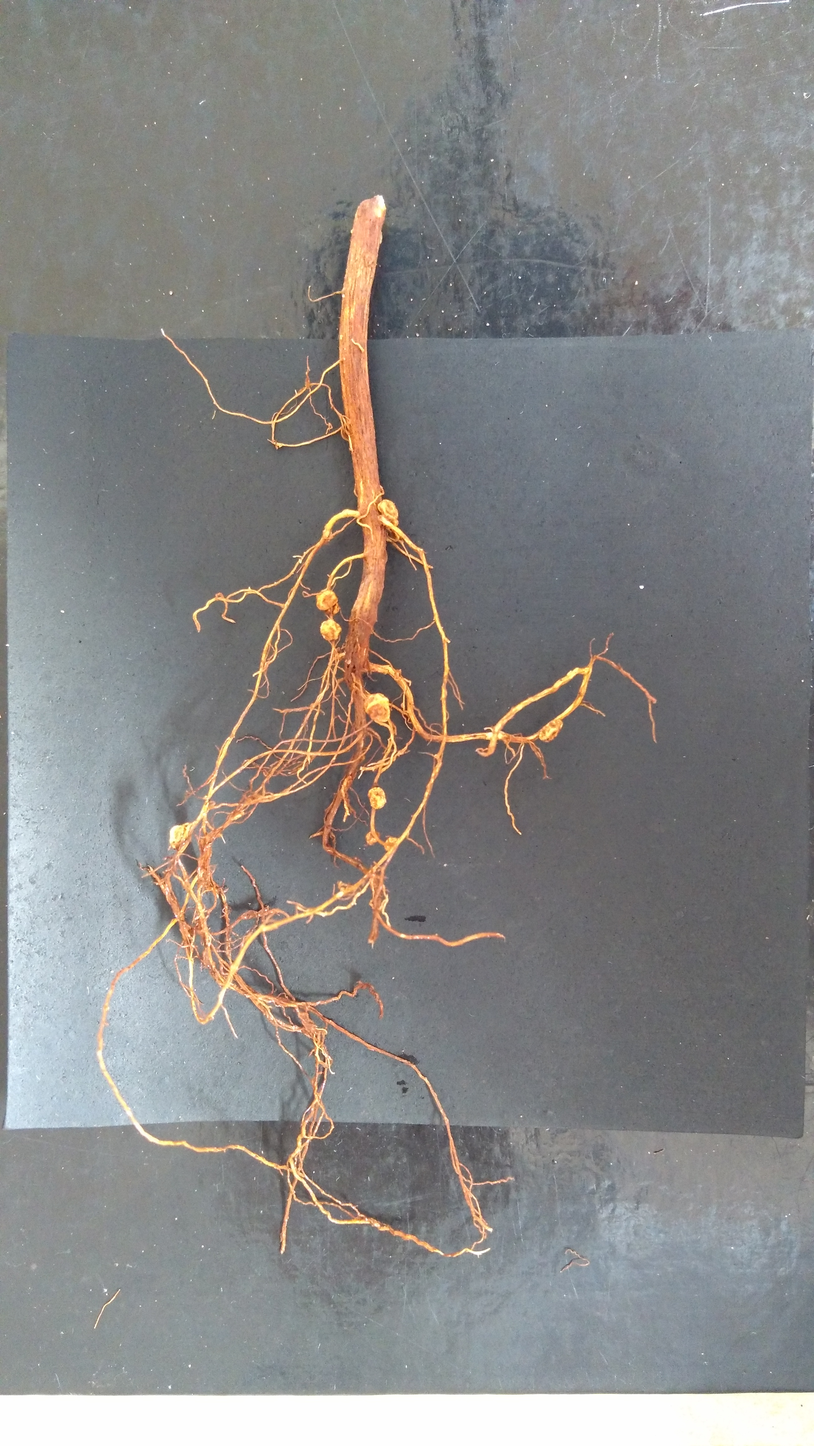nodule: (361, 691, 392, 724), (536, 717, 566, 745), (318, 617, 342, 643), (366, 785, 388, 812), (168, 822, 189, 850), (376, 497, 400, 521), (315, 588, 339, 612), (383, 834, 399, 852), (380, 512, 399, 526), (365, 829, 380, 846), (332, 601, 342, 615)
